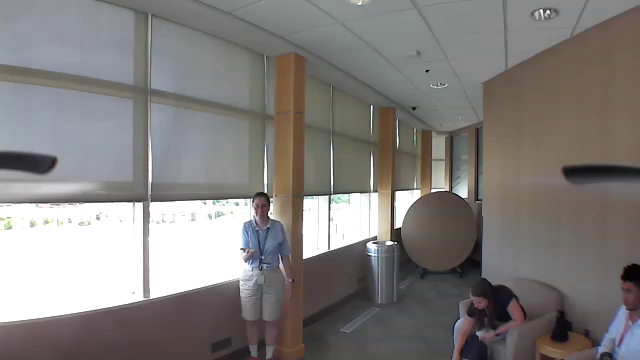land: (241, 243, 264, 261)
